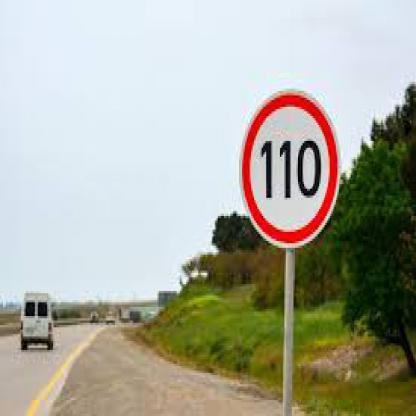Speed Limit 110: (244, 91, 336, 245)
